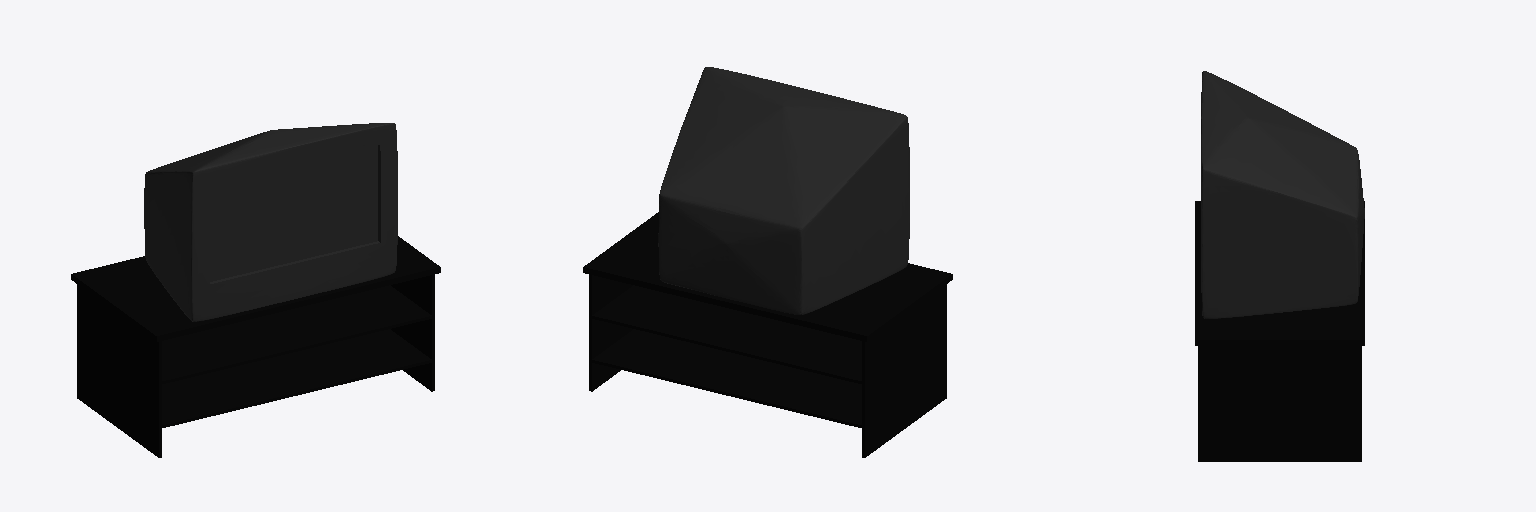
3 renders of one model, left to right at view 1: azimuth 30°, elevation 25°; view 2: azimuth 150°, elevation 25°; view 3: azimuth 270°, elevation 25°, orthographic.
Visible parts, largest first — view 1: TV_6, Etagere_3, Etagere_2_5, Montant_1_2, Etagere_1_4, Montant_1; view 2: TV_6, Etagere_3, Etagere_2_5, Etagere_1_4, Montant_1_2, Montant_1; view 3: TV_6, Montant_1, Etagere_1_4.
Boxes of the visible parts, x1=… form: TV_6: x1=144, y1=123, x2=397, y2=321; Etagere_3: x1=160, y1=329, x2=433, y2=427; Etagere_2_5: x1=161, y1=285, x2=433, y2=383; Montant_1_2: x1=77, y1=284, x2=161, y2=457; Etagere_1_4: x1=71, y1=236, x2=440, y2=341; Montant_1: x1=391, y1=274, x2=434, y2=391; TV_6: x1=658, y1=67, x2=909, y2=314; Etagere_3: x1=590, y1=329, x2=863, y2=428; Etagere_2_5: x1=590, y1=285, x2=863, y2=384; Etagere_1_4: x1=583, y1=212, x2=952, y2=341; Montant_1_2: x1=862, y1=284, x2=946, y2=457; Montant_1: x1=589, y1=274, x2=632, y2=391; TV_6: x1=1201, y1=71, x2=1364, y2=318; Montant_1: x1=1198, y1=346, x2=1361, y2=461; Etagere_1_4: x1=1195, y1=201, x2=1364, y2=345.
Size of the model in its own units: 1 by 0.9334 by 0.52.